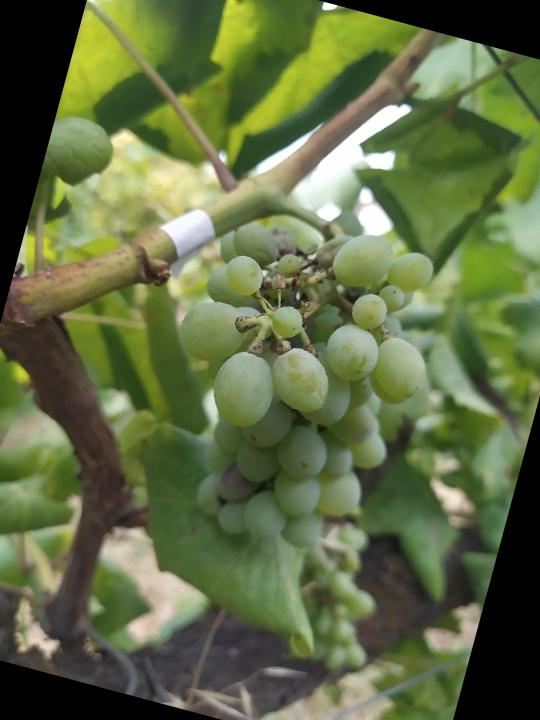grape: (127, 185, 466, 575)
